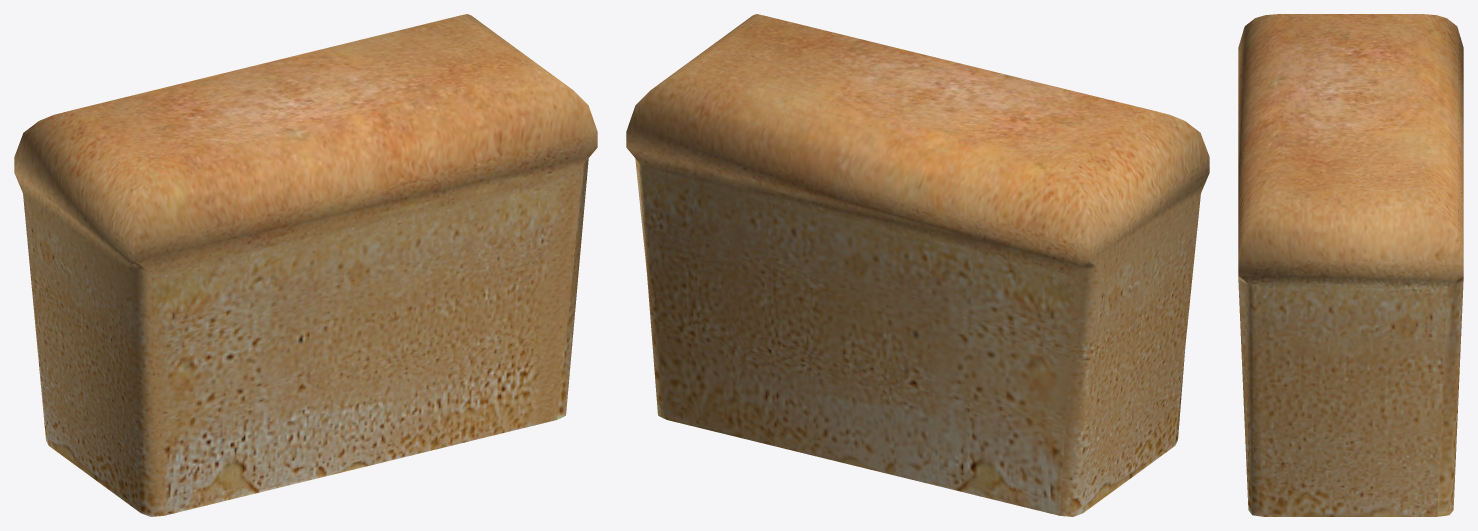
The model's file is Bread.FBX.
3 renders of one model, left to right at view 1: azimuth 30°, elevation 25°; view 2: azimuth 150°, elevation 25°; view 3: azimuth 270°, elevation 25°, orthographic. The views are drawn at different scales.
Visible parts, largest first — view 1: Box001; view 2: Box001; view 3: Box001.
Part boxes in pixels (<box>): Box001: <box>14,14,597,516</box>; Box001: <box>626,14,1209,516</box>; Box001: <box>1238,14,1463,516</box>.
Bounding box in the file's own units: 156 × 108 × 69.69.
1 material, 1 textured.
